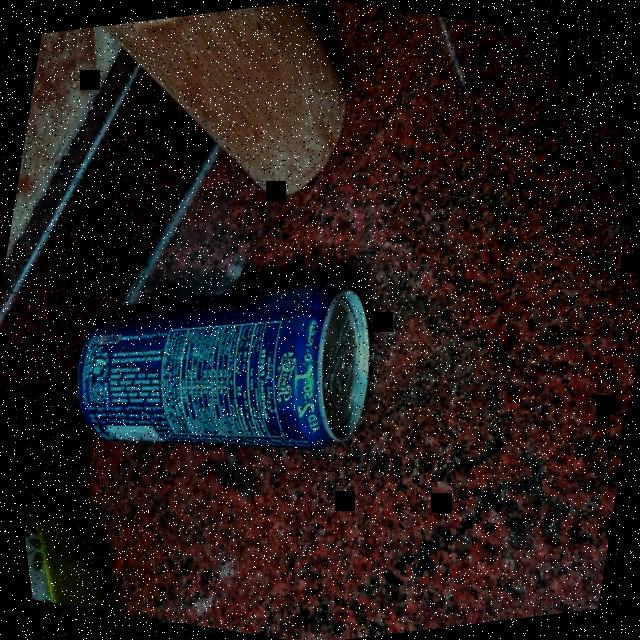can: (62, 267, 386, 481)
